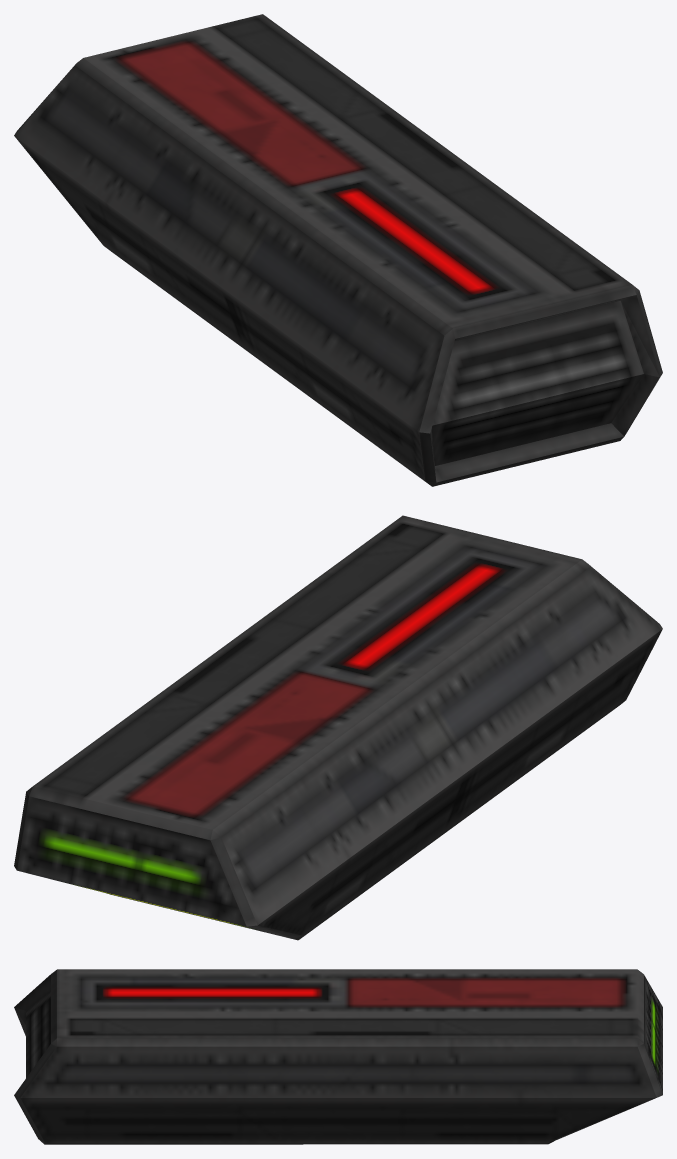
File: BFP_LargeEngine01_Right.FBX
3 views of the same model, one above another, from view 1: azimuth 30°, elevation 25°; view 2: azimuth 150°, elevation 25°; view 3: azimuth 270°, elevation 25° (orthographic). The views are drawn at different scales.
Parts seen in each view (by area): view 1: BFP_LargeEngine01_Right; view 2: BFP_LargeEngine01_Right; view 3: BFP_LargeEngine01_Right.
Boxes of the visible parts, x1=… form: BFP_LargeEngine01_Right: x1=14, y1=14, x2=662, y2=486; BFP_LargeEngine01_Right: x1=14, y1=515, x2=662, y2=940; BFP_LargeEngine01_Right: x1=14, y1=969, x2=662, y2=1144.
Size of the model in its own units: 77.67 by 44.29 by 228.
Materials: 1 (1 with a texture image).
